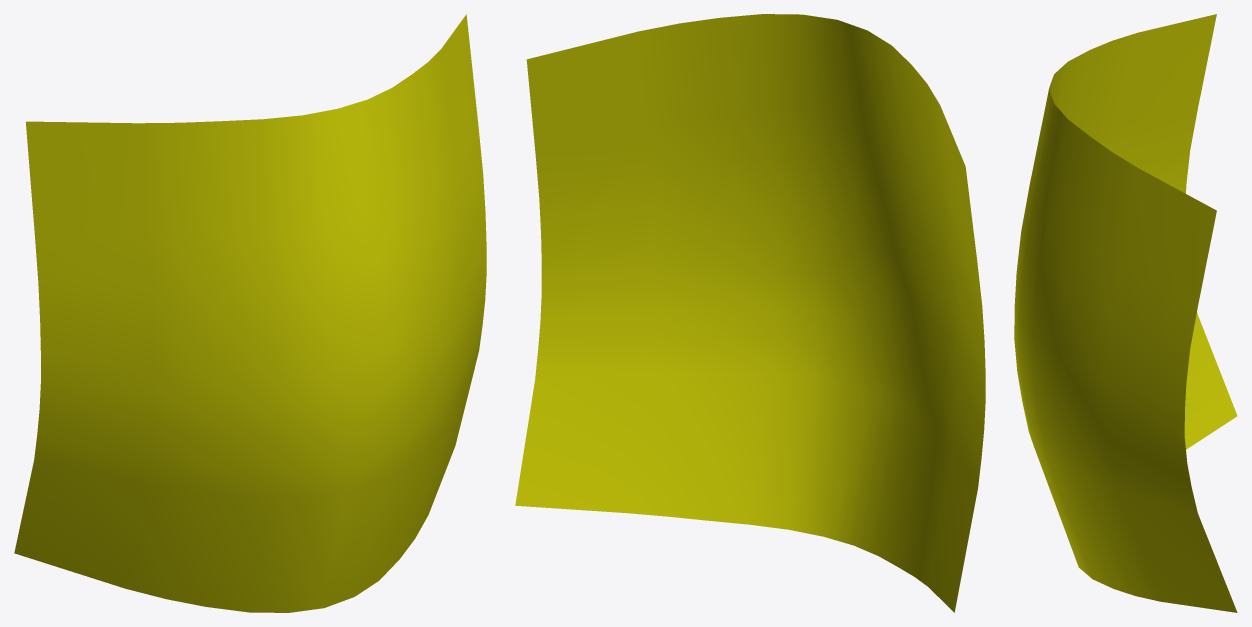
The model's file is Mask_2.glb.
The picture shows the model from 3 angles, left to right: view 1: azimuth 30°, elevation 25°; view 2: azimuth 150°, elevation 25°; view 3: azimuth 270°, elevation 25°; orthographic projection. The views are drawn at different scales.
Size of the model in its own units: 91.85 by 100 by 43.58.
